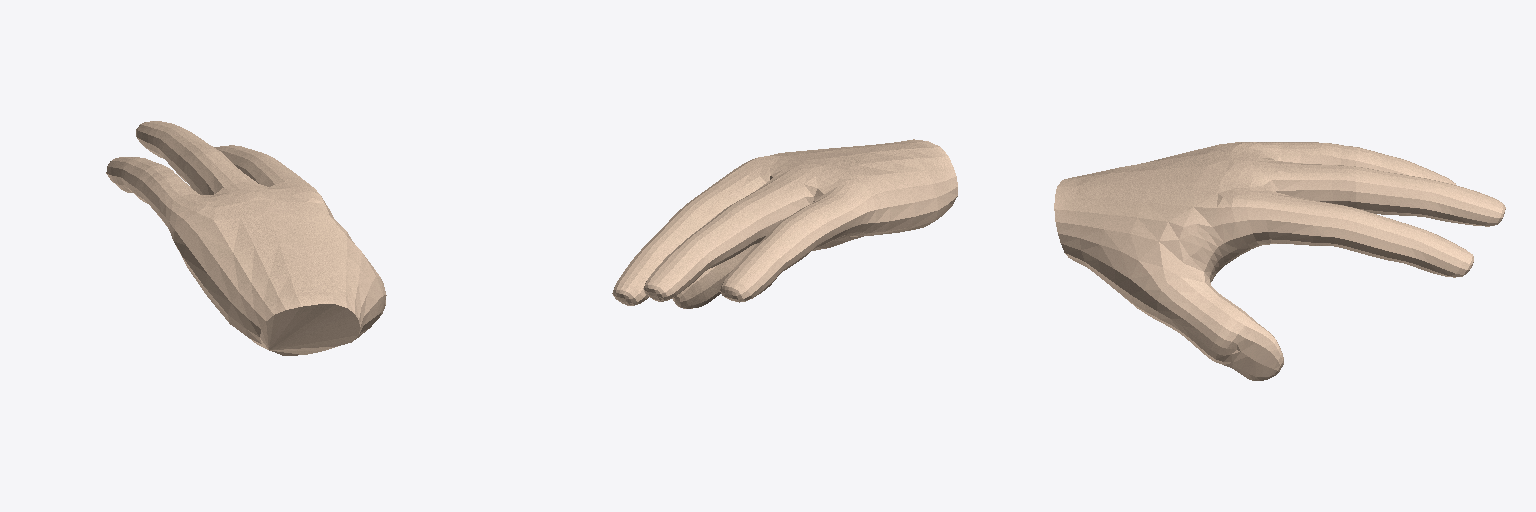
3 renders of one model, left to right at view 1: azimuth 30°, elevation 25°; view 2: azimuth 150°, elevation 25°; view 3: azimuth 270°, elevation 25°, orthographic.
Parts seen in each view (by area): view 1: l_hand.001_Cube.010; view 2: l_hand.001_Cube.010; view 3: l_hand.001_Cube.010.
Part boxes in pixels (x1,y1,x2,y2): l_hand.001_Cube.010: (106,121,386,355); l_hand.001_Cube.010: (612,139,957,308); l_hand.001_Cube.010: (1054,142,1505,380).
Size of the model in its own units: 0.1295 by 0.1018 by 0.2543.
1 materials, 1 textured.